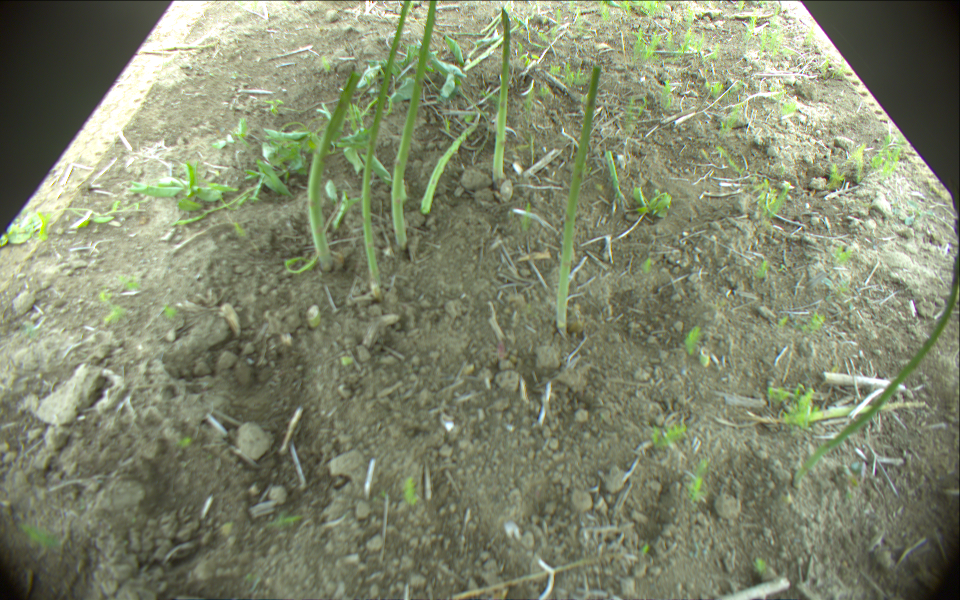aspa: (792, 179, 956, 485), (362, 1, 412, 281), (555, 65, 601, 332), (392, 1, 437, 245), (307, 71, 362, 269), (420, 113, 481, 214), (771, 400, 927, 422), (491, 6, 510, 178), (462, 26, 522, 72), (605, 150, 621, 201)
